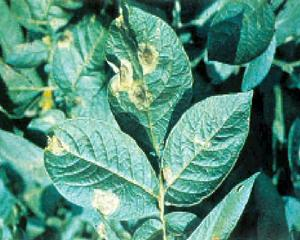Potato leaf late blight: (103, 5, 195, 151), (44, 119, 162, 219), (163, 85, 253, 208), (187, 173, 265, 240)
